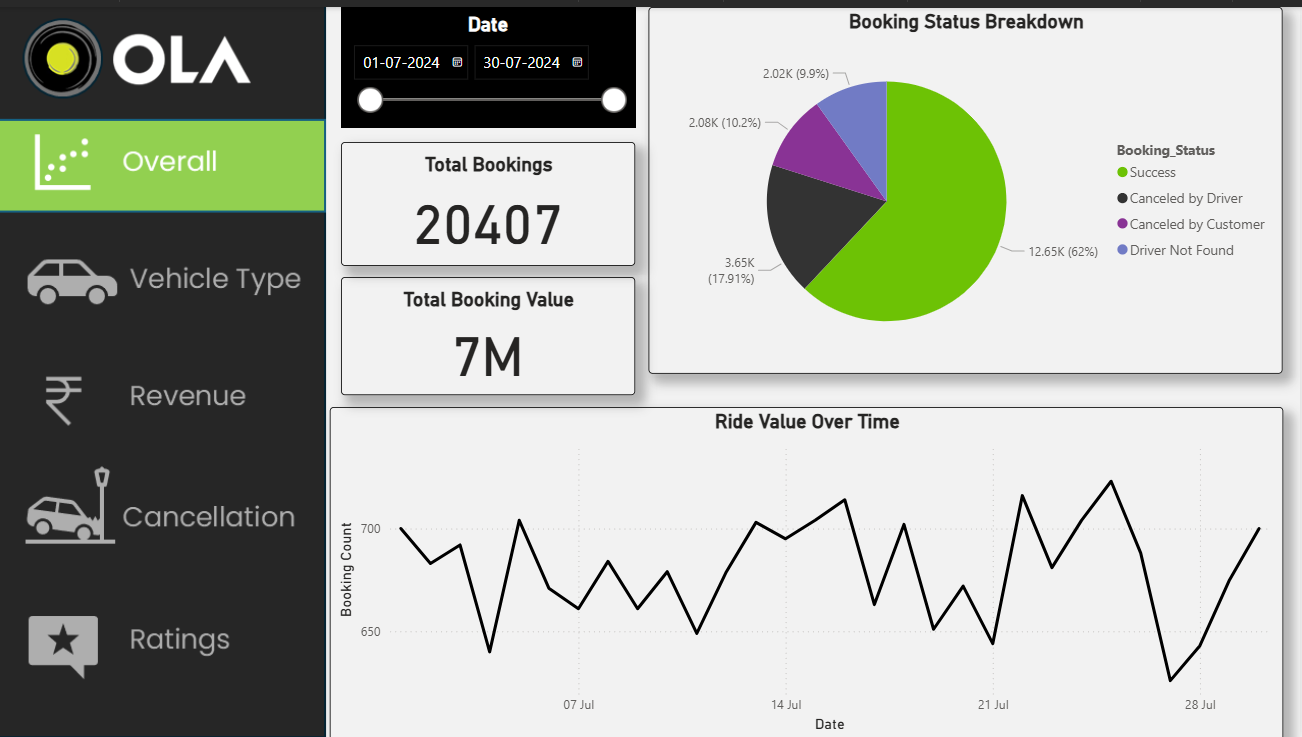

This screenshot's page, from the dashboard's own definition file:
{"tool":"powerbi","page":{"name":"Overall","canvas":[1280,720],"ordinal":0},"visuals":[{"type":"actionButton","box":[0,218.4,325.2,95.7],"z":0},{"type":"actionButton","box":[0,344.8,325.2,73.6],"z":1000},{"type":"actionButton","box":[1.2,447.9,325.2,81],"z":2000},{"type":"actionButton","box":[2.5,582.8,325.2,81],"z":3000},{"type":"lineChart","title":"Ride Value Over Time","fields":{"Y":["CountNonNull(July.Booking_ID)"],"Category":["July.Date"]},"box":[327.5,392.5,936.2,327.5],"z":4000},{"type":"pieChart","title":"Booking Status Breakdown","fields":{"Category":["July.Booking_Status"],"Y":["CountNonNull(July.Booking_Status)"]},"box":[640,0,622.5,360],"z":5000},{"type":"slicer","title":"Date","fields":{"Values":["July.Date"]},"box":[338.8,0,288.8,118.8],"z":6000},{"type":"card","title":"Total Bookings","fields":{"Values":["Count(July.Booking_ID)"]},"box":[338.8,132.5,288.8,121.2],"z":7000},{"type":"card","title":"Total Booking Value","fields":{"Values":["Sum(July.Booking_Value)"]},"box":[338.8,265,288.8,116.2],"z":8000}]}

Visuals, with their boxes in screenshot pixels (x1, y1, x2, y2), scaled from the page's 1280x720 canvas onto the 1302x737 screenshot:
actionButton: 0,224,331,322
actionButton: 0,353,331,428
actionButton: 1,458,332,541
actionButton: 3,597,333,679
"Ride Value Over Time" lineChart: 333,402,1285,736
"Booking Status Breakdown" pieChart: 651,0,1284,368
"Date" slicer: 345,0,638,122
"Total Bookings" card: 345,136,638,260
"Total Booking Value" card: 345,271,638,390
